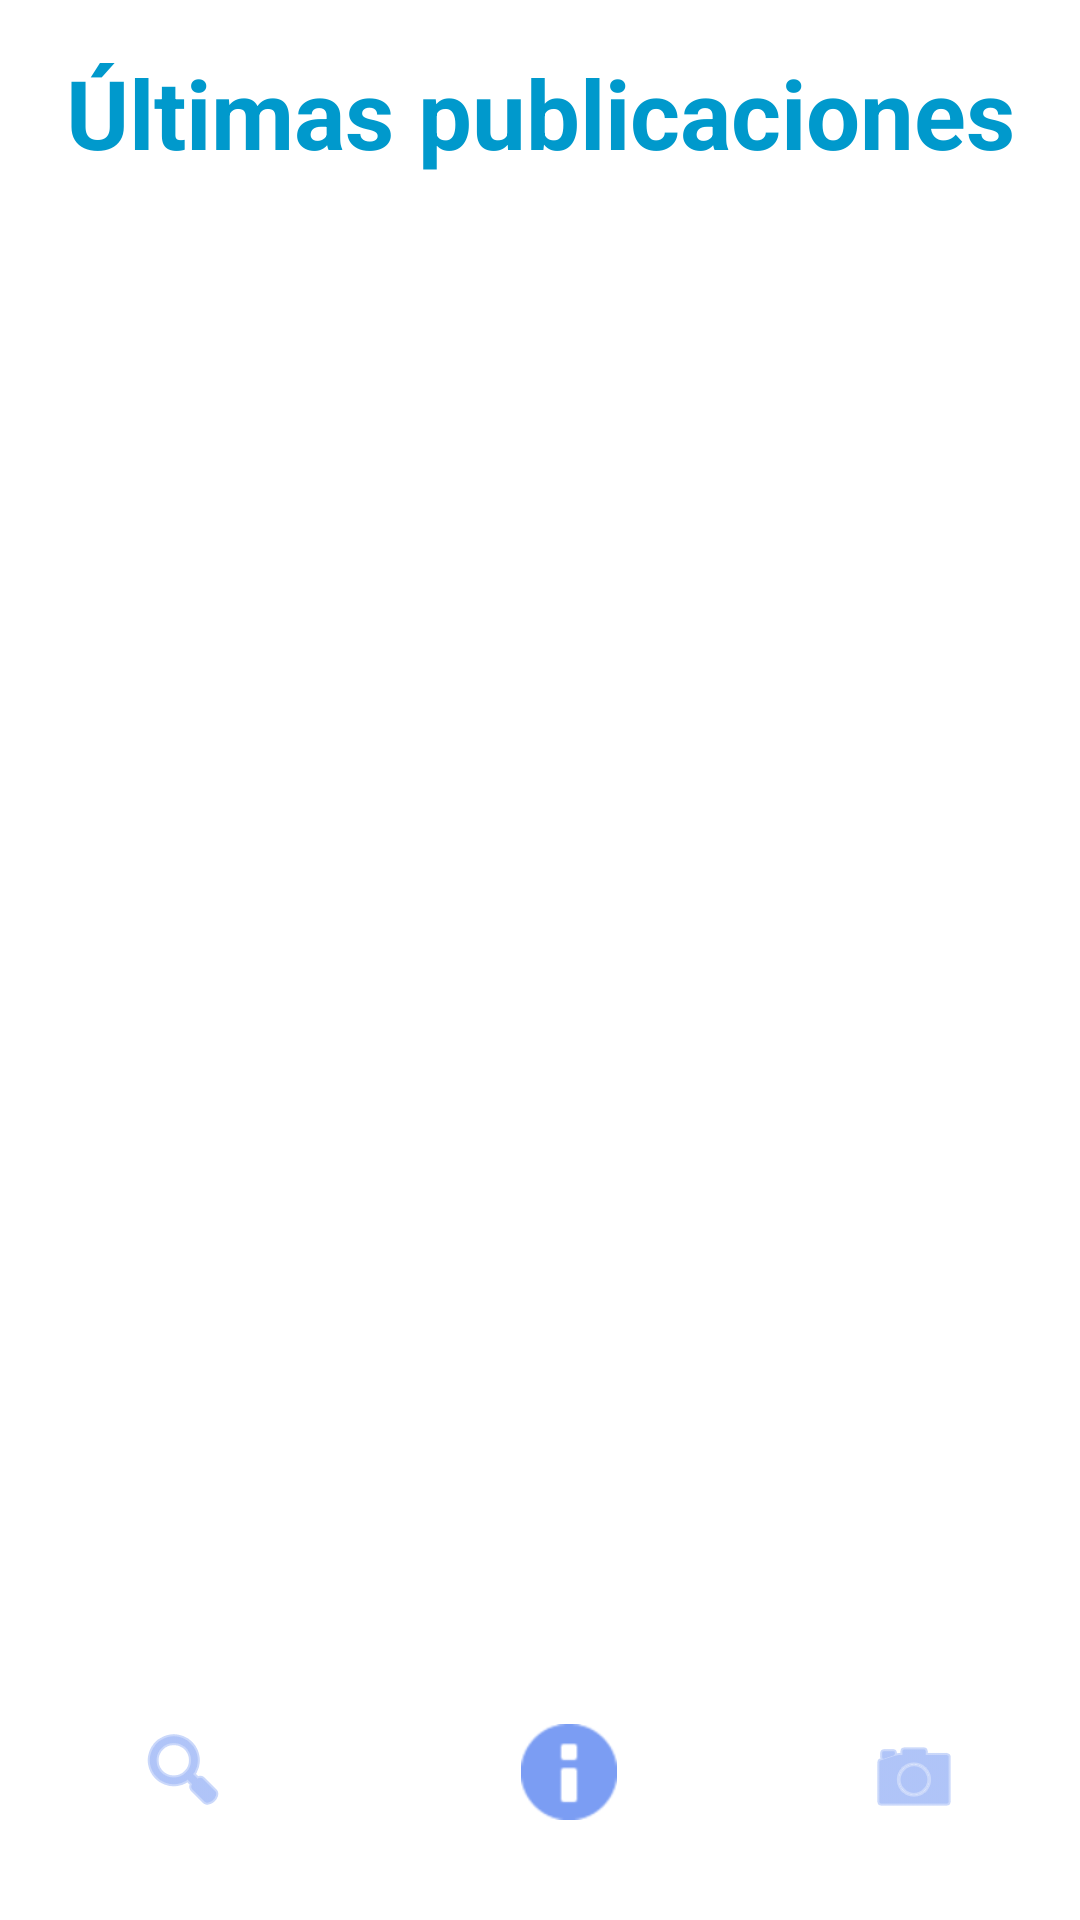

Icons on this 1080 × 1920 Android screen, each with its box as bbox=(x1, y1, x2, y2):
Buscar: bbox=(148, 1734, 218, 1805)
